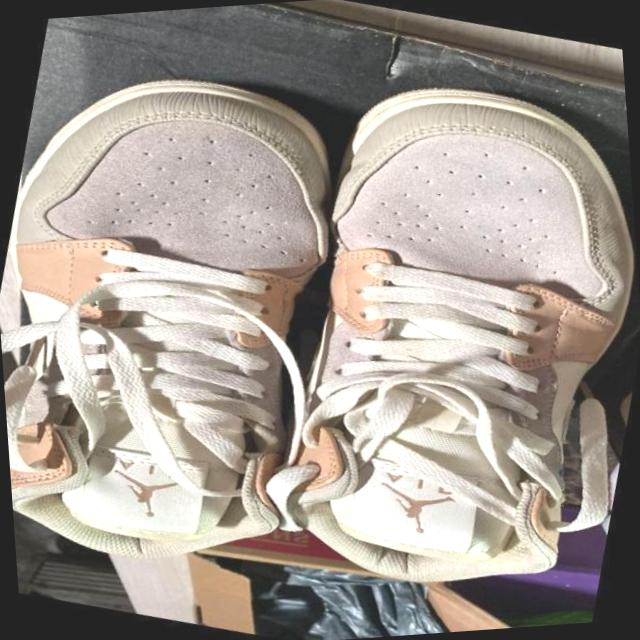nike_fake_jordan: (228, 44, 640, 631), (0, 30, 387, 597)
